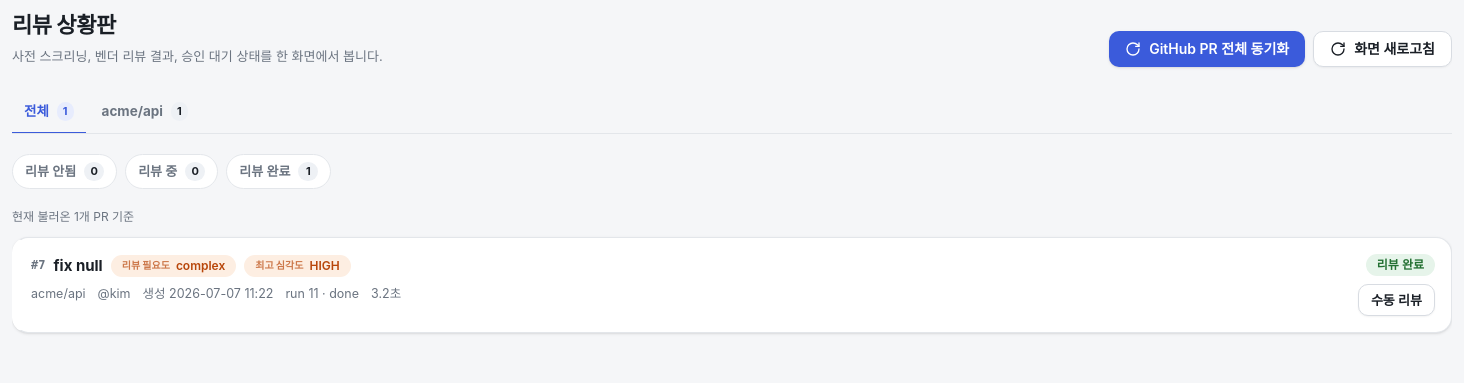
Scenario: synchronizes all repositories and refreshes the overview
The image size is (1464, 383).
Expected: the link "fix null" is shown, left=54, top=254, right=103, bottom=278
Click the button "GitHub PR 전체 동기화". click: (1207, 49)
box: left=1109, top=31, right=1305, bottom=67
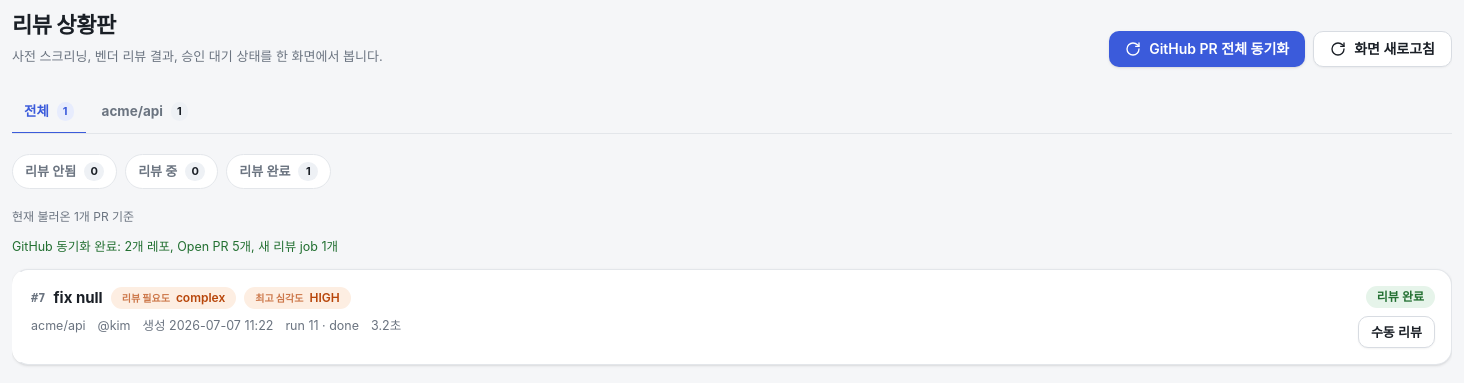
Result: the text "GitHub 동기화 완료: 2개 레포, Open PR 5개, 새 리뷰 job 1개" is shown at left=12, top=239, right=338, bottom=254
